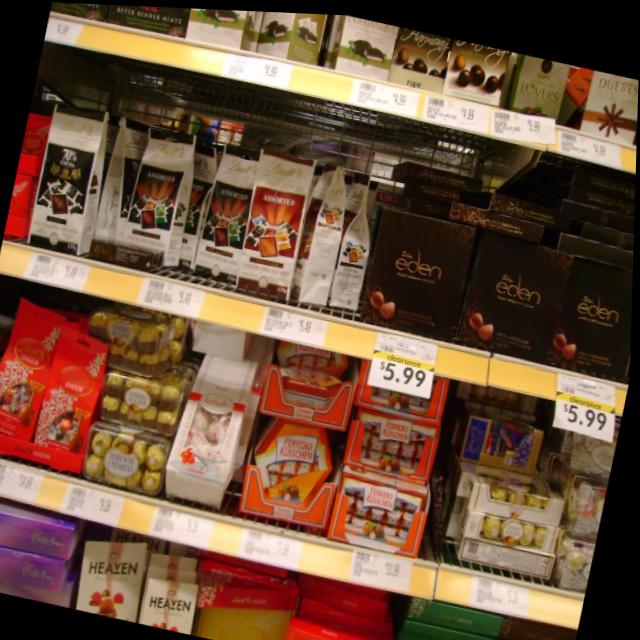q256: (19, 101, 119, 262)
